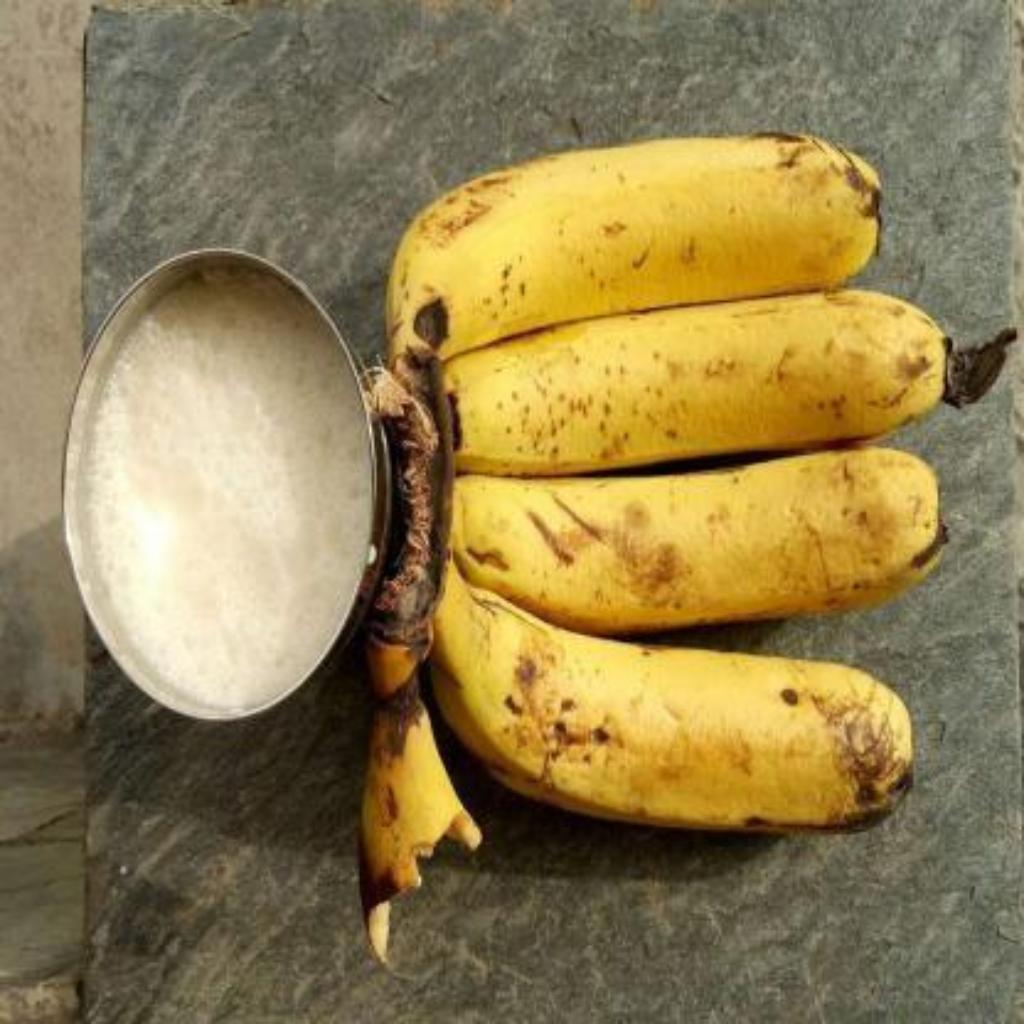banana: (436, 581, 911, 837), (389, 135, 881, 352), (441, 290, 950, 482), (450, 446, 953, 635)
